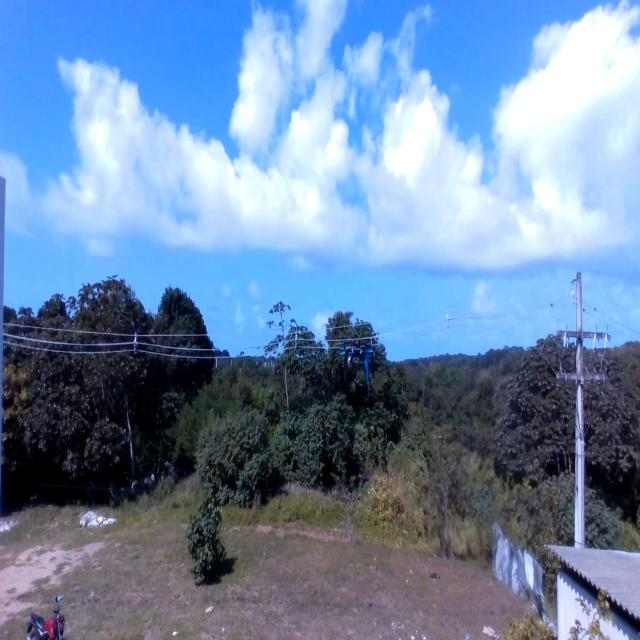-uav-: (338, 330, 372, 387)
